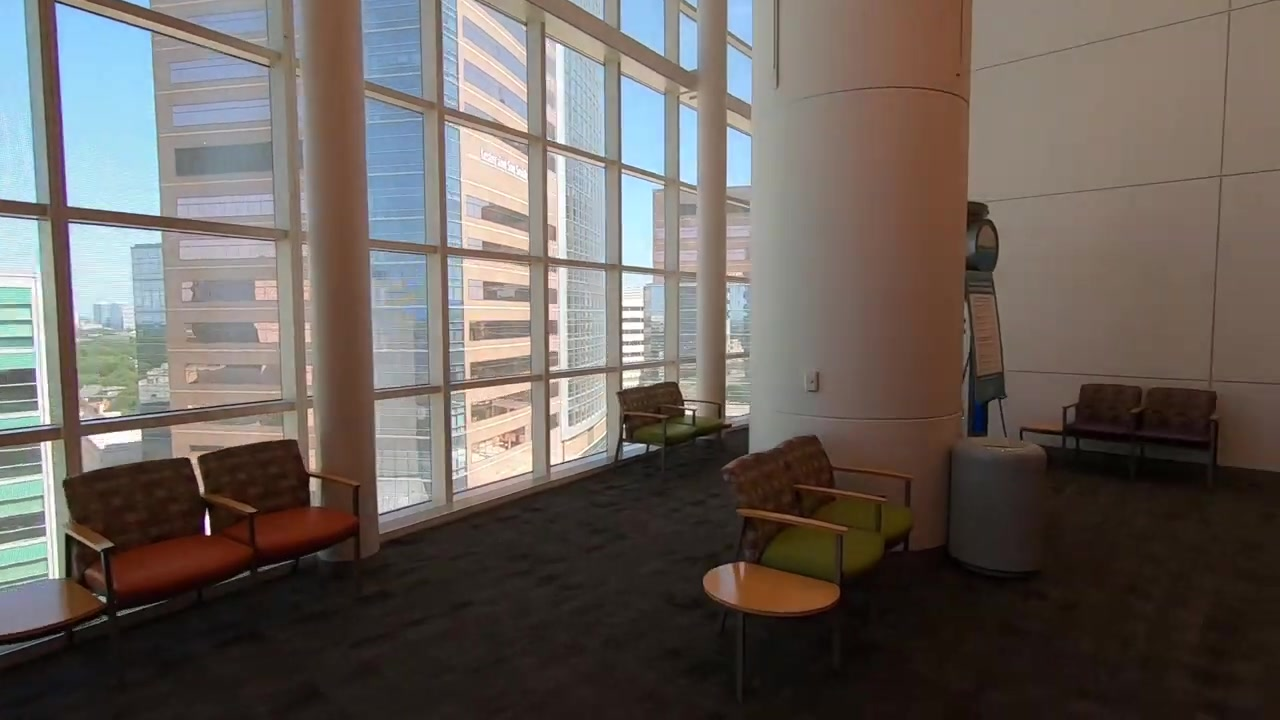chair: (60, 456, 253, 693), (720, 451, 887, 638), (195, 438, 363, 601), (771, 433, 920, 589), (1140, 387, 1220, 488), (1062, 383, 1142, 482), (614, 386, 693, 473), (646, 381, 725, 453)
light_switch: (804, 368, 821, 395)
table: (701, 562, 842, 706), (1, 577, 106, 646), (1019, 421, 1062, 445)
waste_bin: (950, 429, 1053, 576)
